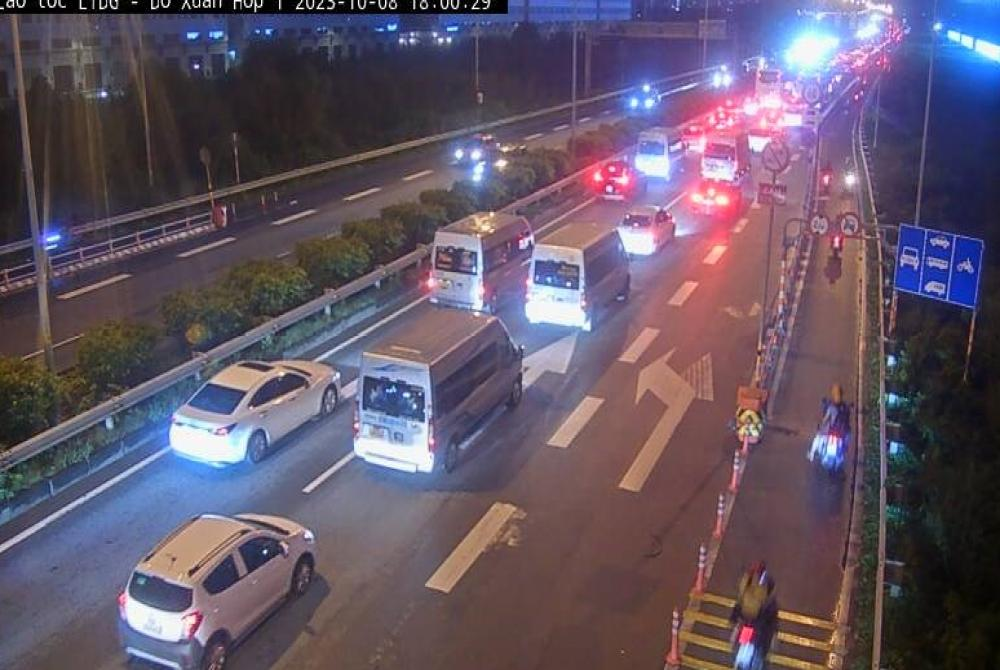car: (116, 510, 326, 670), (356, 303, 524, 483), (169, 359, 343, 470), (526, 207, 636, 349), (416, 196, 533, 318), (607, 197, 677, 282)
